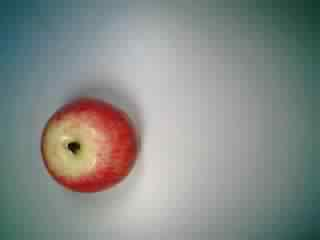apple: (40, 94, 143, 198)
